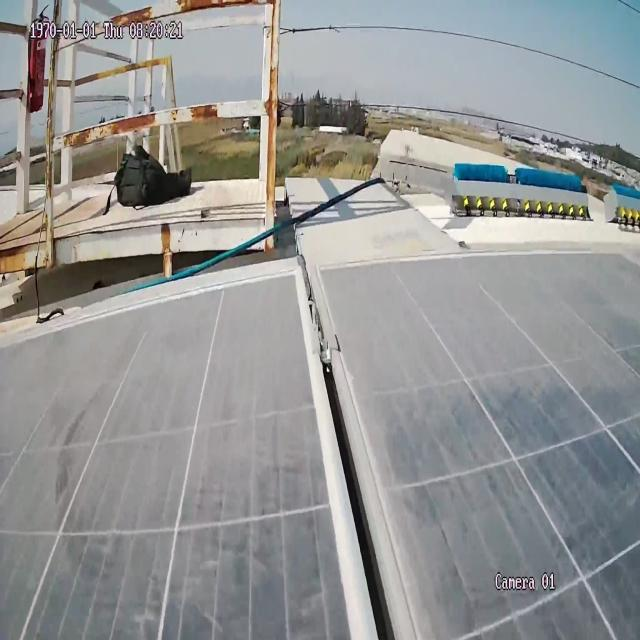interior panel: (287, 264, 438, 639)
